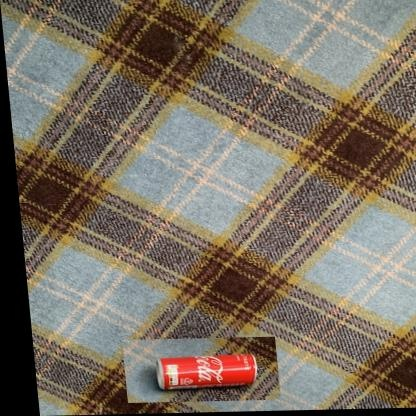trash: (157, 354, 256, 389)
